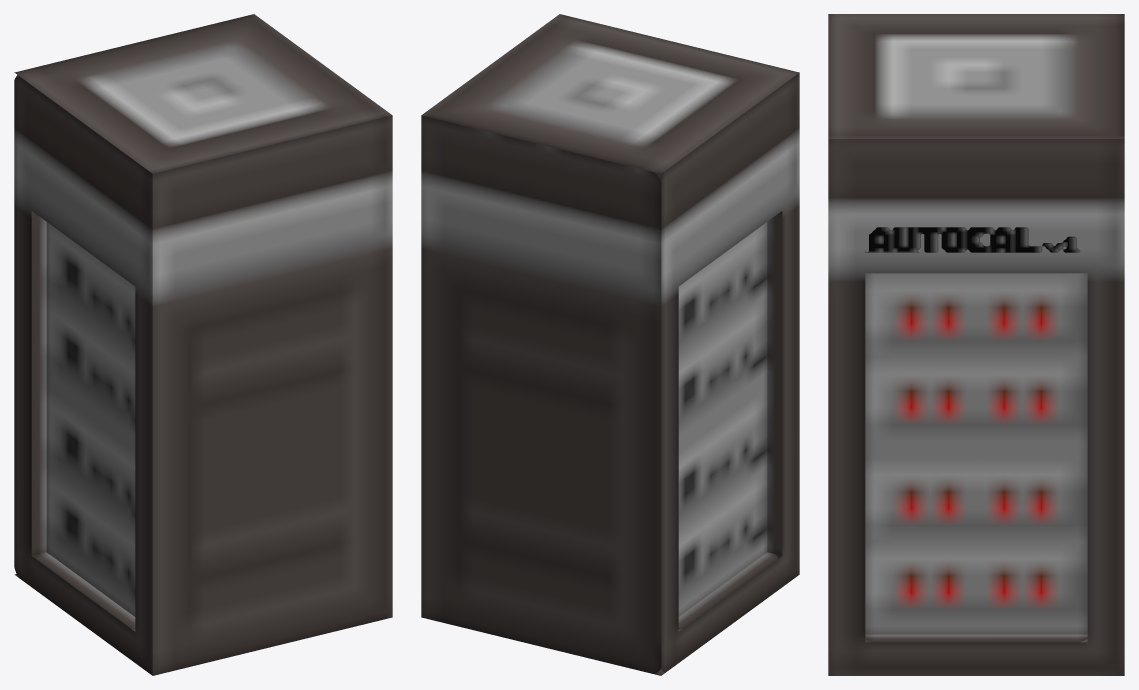
File: autocal.obj
3 renders of one model, left to right at view 1: azimuth 30°, elevation 25°; view 2: azimuth 150°, elevation 25°; view 3: azimuth 270°, elevation 25°, orthographic. The views are drawn at different scales.
Visible parts, largest first — view 1: Plane; view 2: Plane; view 3: Plane.
Boxes of the visible parts, left/top/right/bottom form: Plane: left=14, top=14, right=392, bottom=675; Plane: left=421, top=14, right=799, bottom=675; Plane: left=828, top=14, right=1124, bottom=675.
Bounding box in the file's own units: 1 × 2 × 1.
